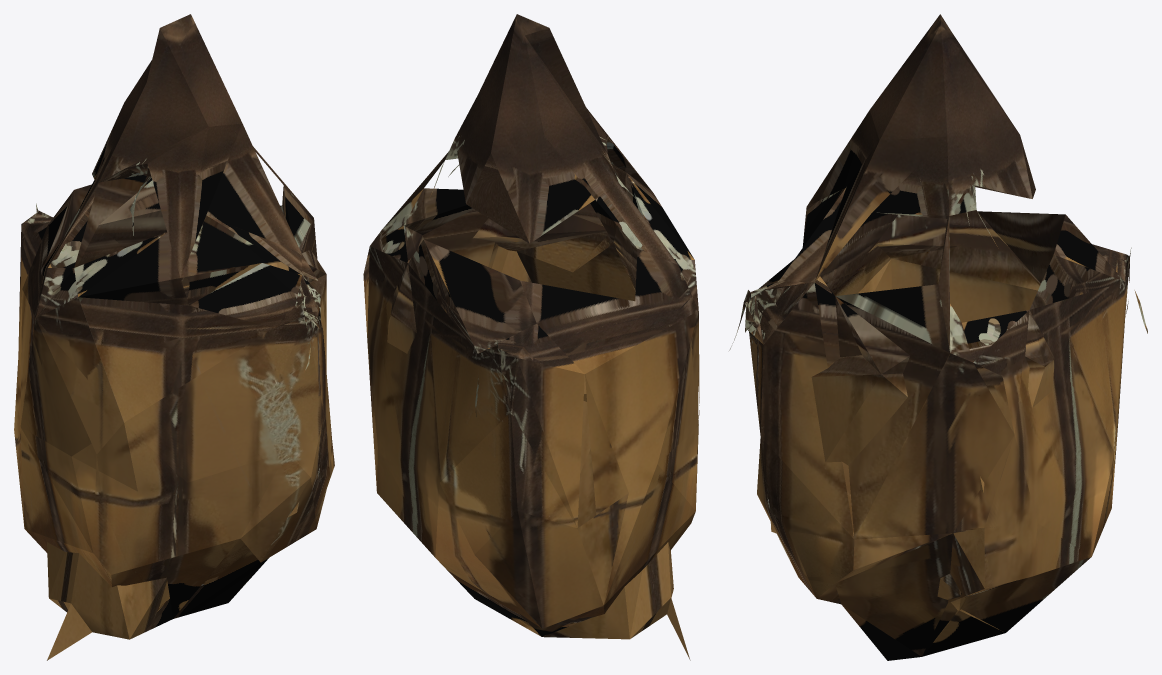
File: hanglantern.glb
The picture shows the model from 3 angles, left to right: view 1: azimuth 30°, elevation 25°; view 2: azimuth 150°, elevation 25°; view 3: azimuth 270°, elevation 25°; orthographic projection. The views are drawn at different scales.
Parts seen in each view (by area): view 1: output_unwrapped; view 2: output_unwrapped; view 3: output_unwrapped.
Part boxes in pixels (x1,y1,x2,y2): output_unwrapped: [14, 14, 334, 660]; output_unwrapped: [363, 14, 699, 660]; output_unwrapped: [729, 14, 1147, 660].
Bounding box in the file's own units: 0.84 × 1.64 × 0.9467.
Materials: 1 (1 with a texture image).
